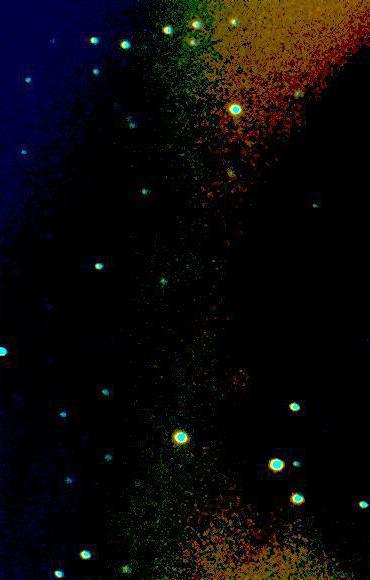star: (301, 460, 331, 490)
